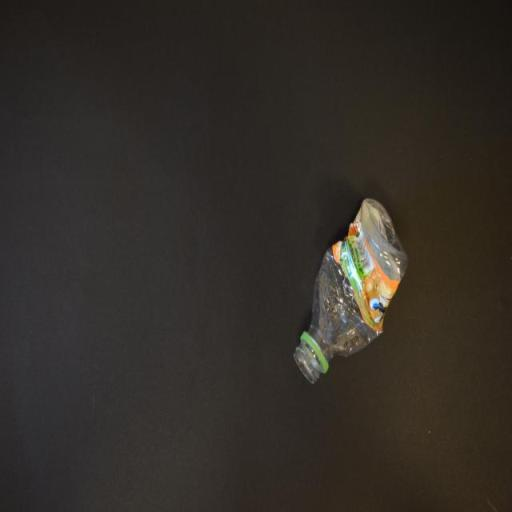plastic: (294, 198, 409, 384)
